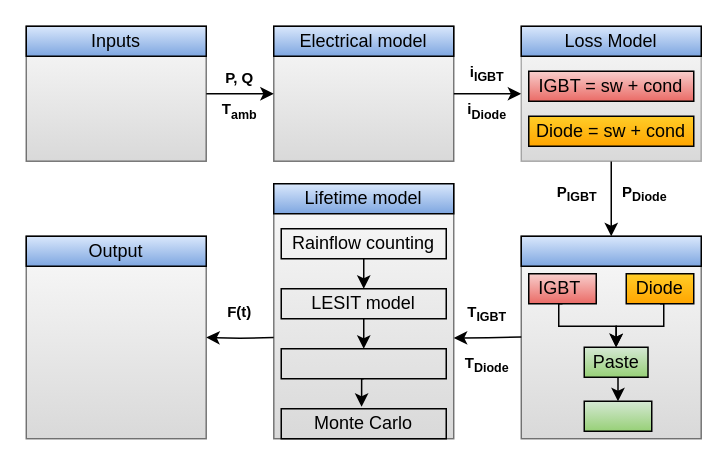
The diagram is 728 pixels wide and 465 high, and some of its shapes have lost their labels. The shapes that lost their labels are listed below. From the top down, each one's box as (x1, y1, x2, y2) in pixels, then its label:
(25, 25, 206, 161): Mission Profiles IGBT-Diode specs Inverter configuration Thermal network
(272, 25, 454, 161): Power flow Modulation IGBT-Diode currents
(520, 235, 701, 266): Thermal model
(25, 235, 206, 439): Switch lifetime Unreliability → B10
(280, 347, 446, 379): Miner's rule
(583, 400, 652, 431): Sink
